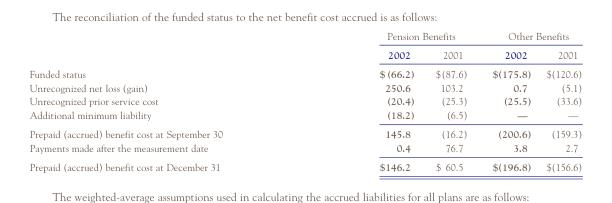table: (28, 29, 581, 172)
table column: (28, 29, 300, 172), (300, 29, 424, 172), (479, 29, 538, 172), (424, 29, 479, 172), (538, 29, 581, 172)
table column header: (28, 29, 581, 63)
table row: (28, 44, 581, 63), (28, 107, 581, 124), (28, 63, 581, 79), (28, 124, 581, 140), (28, 140, 581, 156), (28, 156, 581, 172), (28, 29, 581, 44), (28, 79, 581, 93), (28, 93, 581, 107)
table spanning cell: (300, 29, 479, 44), (479, 29, 581, 44)
